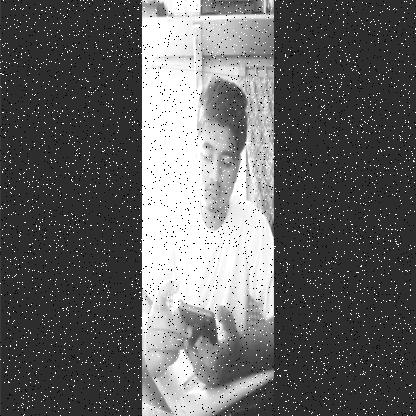Normal: (190, 80, 251, 214)
